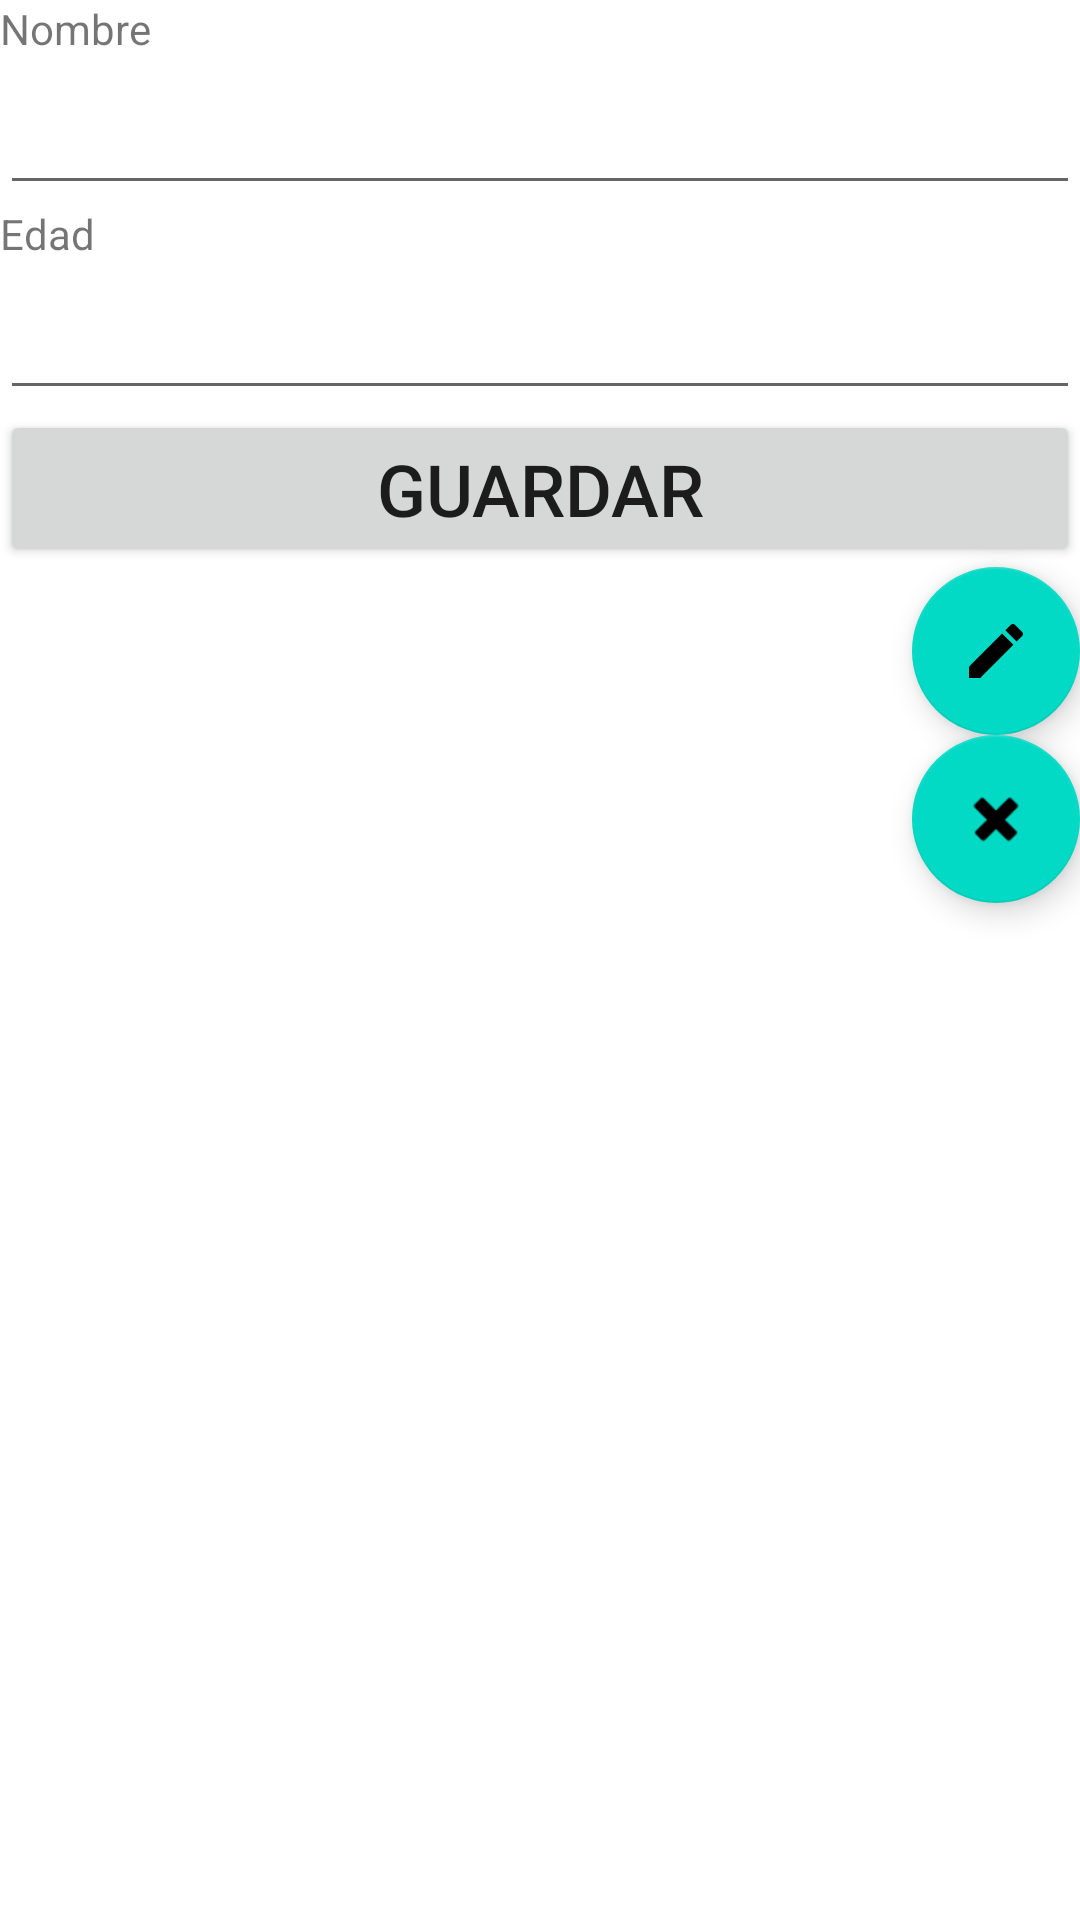

Icon click points for this 1080×1920 phone screenshot, format [x,y]:
delete: [996,819]
edit datos: [996,651]
